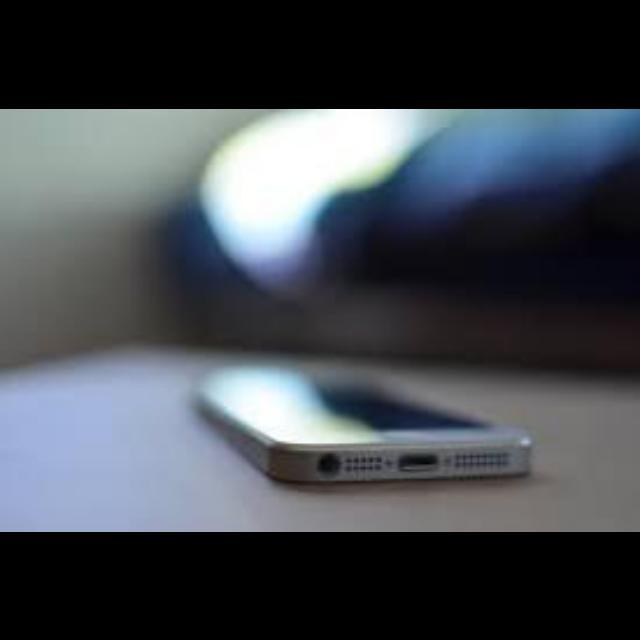Phone: (190, 360, 536, 484)
